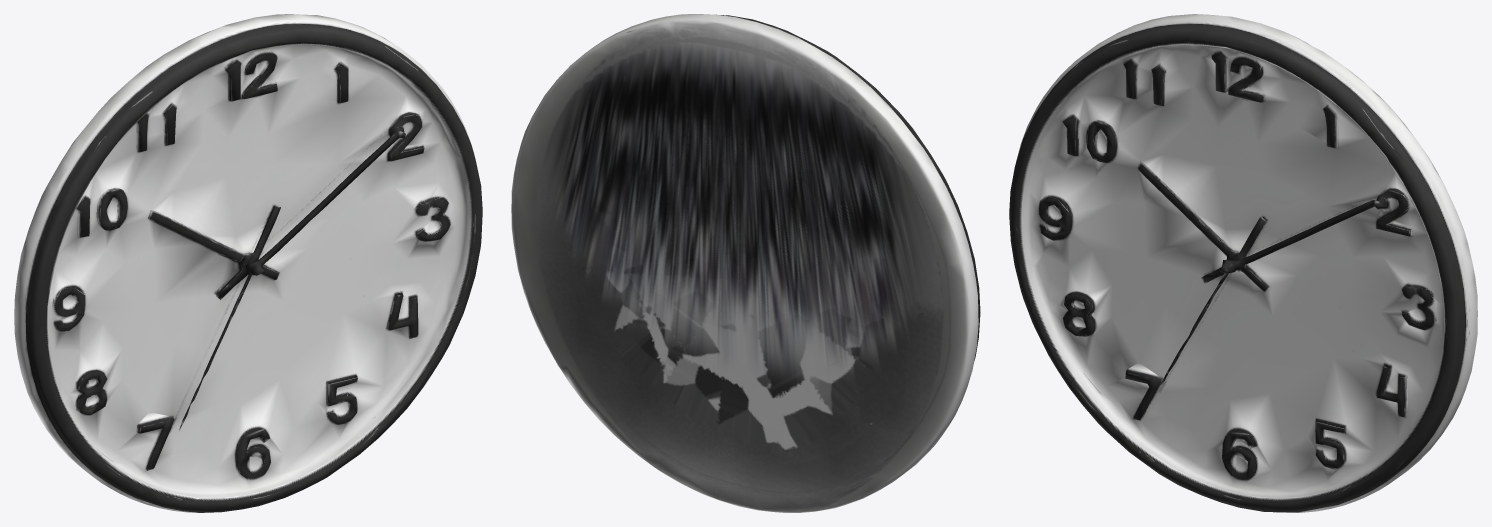
File: saatbake.fbx
The picture shows the model from 3 angles, left to right: view 1: azimuth 30°, elevation 25°; view 2: azimuth 150°, elevation 25°; view 3: azimuth 330°, elevation 25°; orthographic projection.
Parts seen in each view (by area): view 1: saat_low; view 2: saat_low; view 3: saat_low.
Part boxes in pixels (x1,y1,x2,y2): saat_low: (14, 14, 482, 512); saat_low: (511, 14, 980, 512); saat_low: (1009, 14, 1477, 512).
Bounding box in the file's own units: 1.91 × 1.91 × 0.1601.
